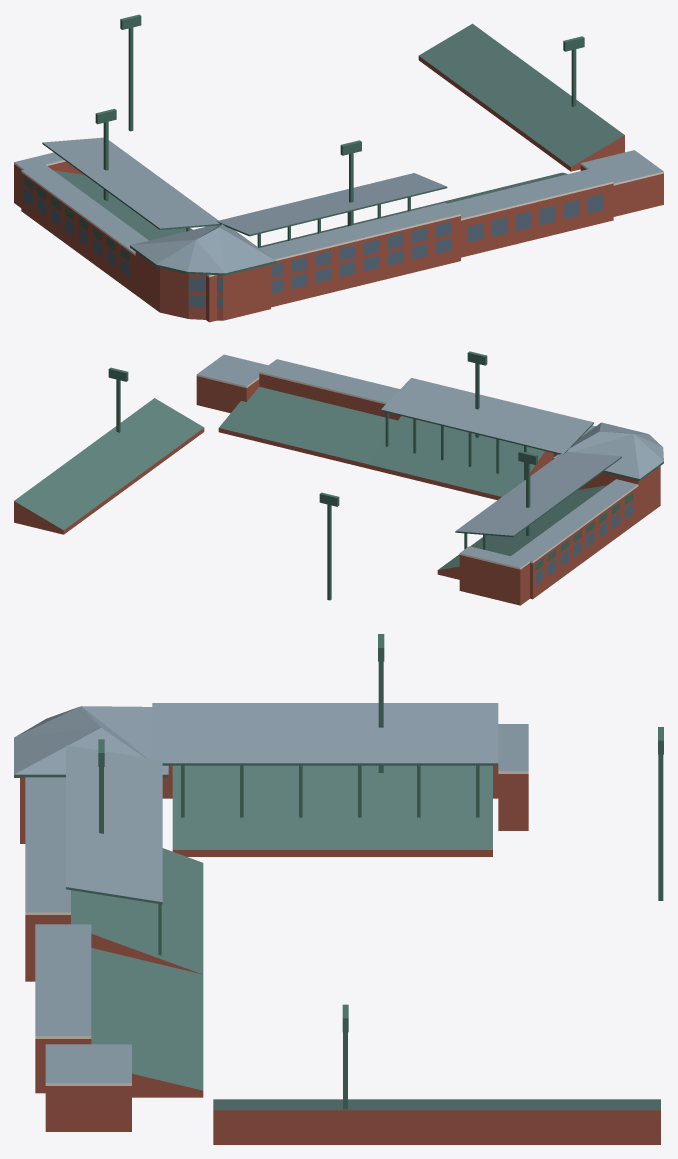
File: jax-121-financial-ballpark.glb
3 views of the same model, one above another, from view 1: azimuth 30°, elevation 25°; view 2: azimuth 150°, elevation 25°; view 3: azimuth 270°, elevation 25° (orthographic). The views are drawn at different scales.
Parts seen in each view (by area): view 1: 121 Financial Ballpark; view 2: 121 Financial Ballpark; view 3: 121 Financial Ballpark.
Boxes of the visible parts, x1=… form: 121 Financial Ballpark: x1=14, y1=14, x2=663, y2=322; 121 Financial Ballpark: x1=14, y1=351, x2=663, y2=605; 121 Financial Ballpark: x1=14, y1=634, x2=663, y2=1144.
Size of the model in its own units: 171 by 38 by 128.
